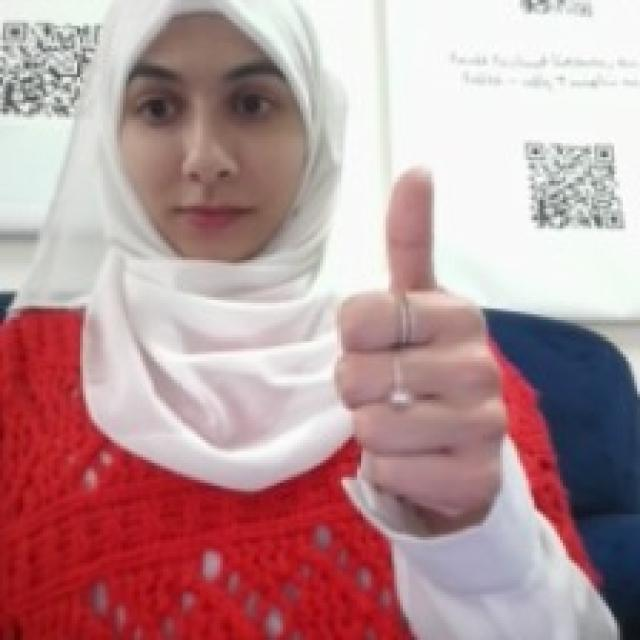fine: (328, 157, 511, 523)
